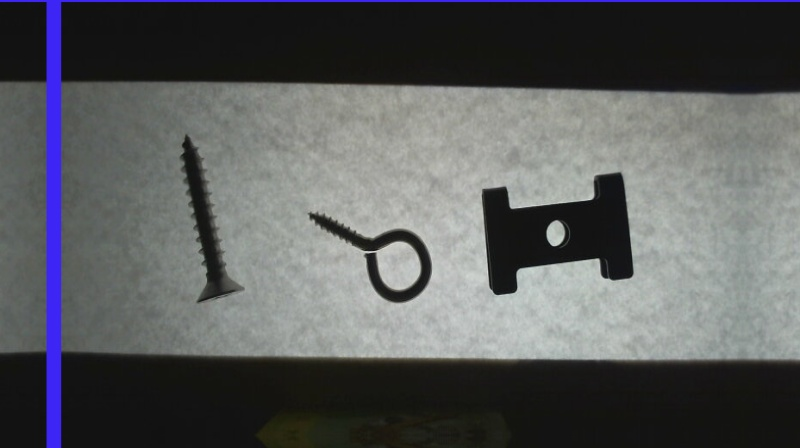O001: (305, 208, 435, 306)
O002: (478, 170, 636, 300)
S001: (176, 131, 248, 305)
